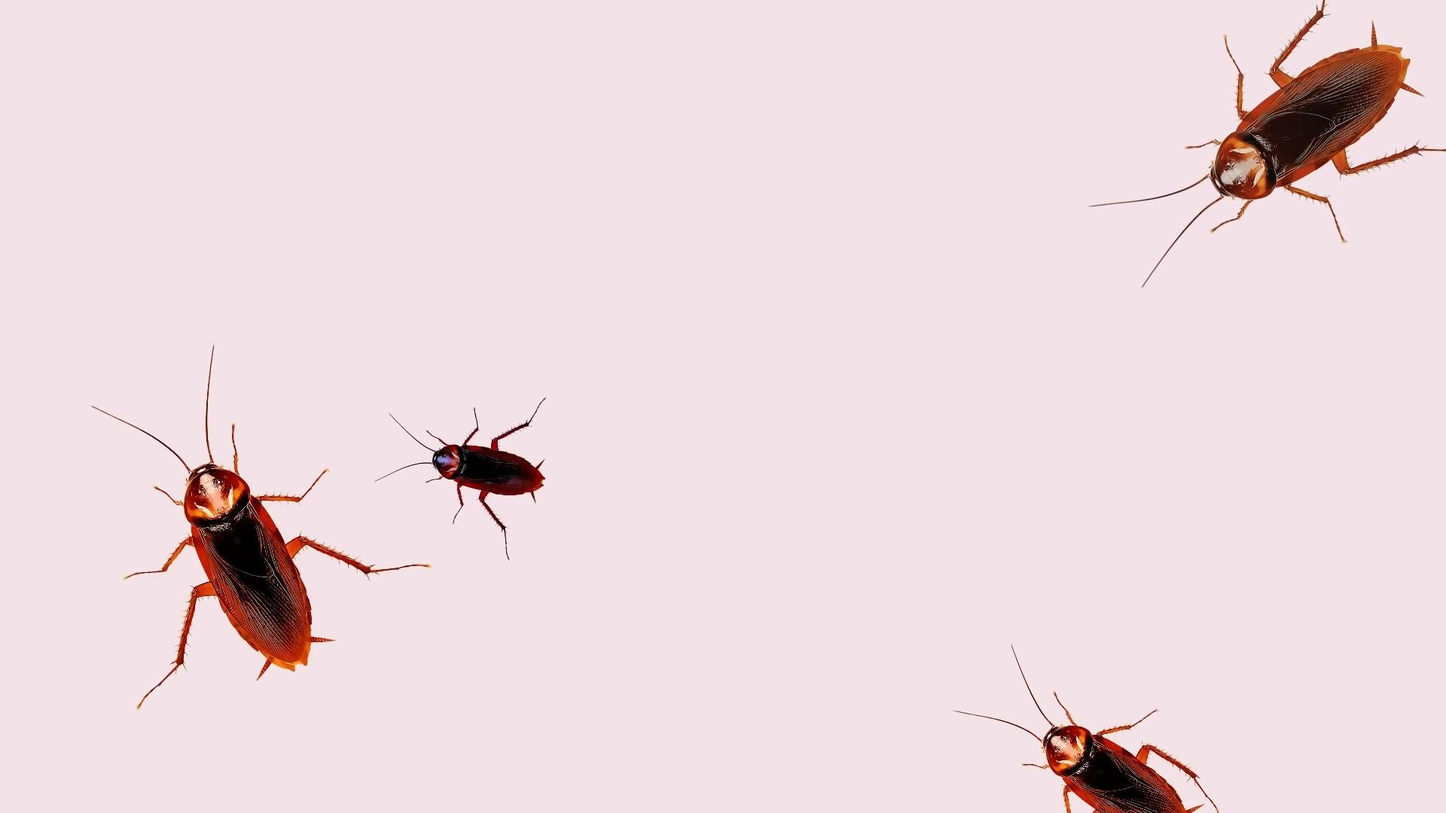cockroach: (76, 367, 369, 706), (1075, 28, 1446, 275), (927, 648, 1229, 813), (370, 400, 559, 542)
